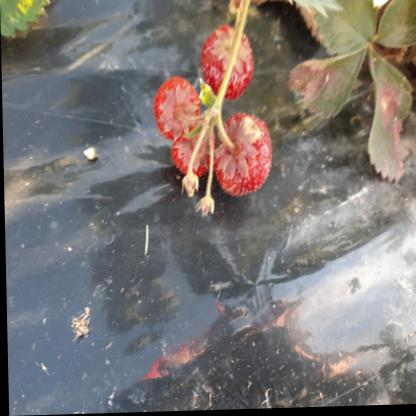ripe: (220, 114, 268, 195), (204, 30, 258, 100), (166, 116, 216, 186), (150, 80, 196, 132)
